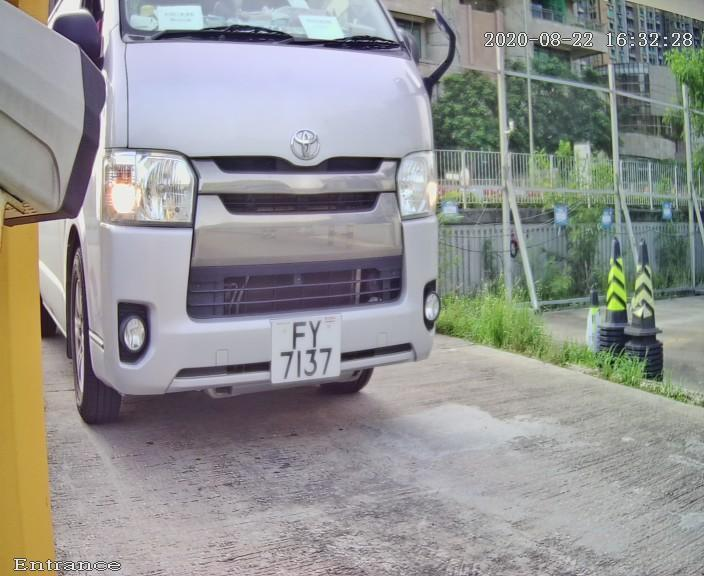License Plate: (268, 312, 349, 389)
